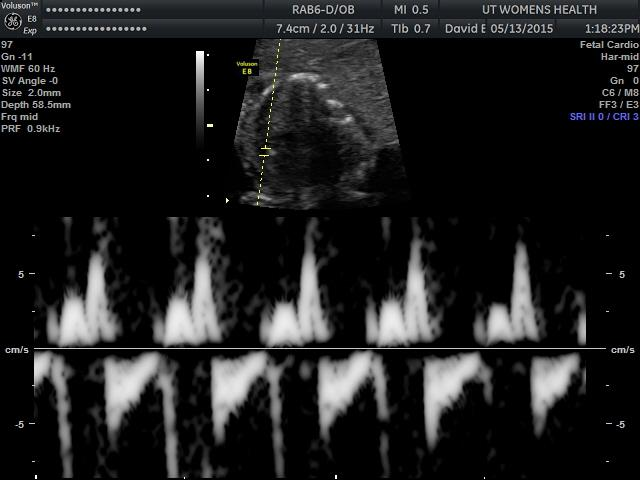Ultrasound-Waves: (36, 212, 600, 470)
